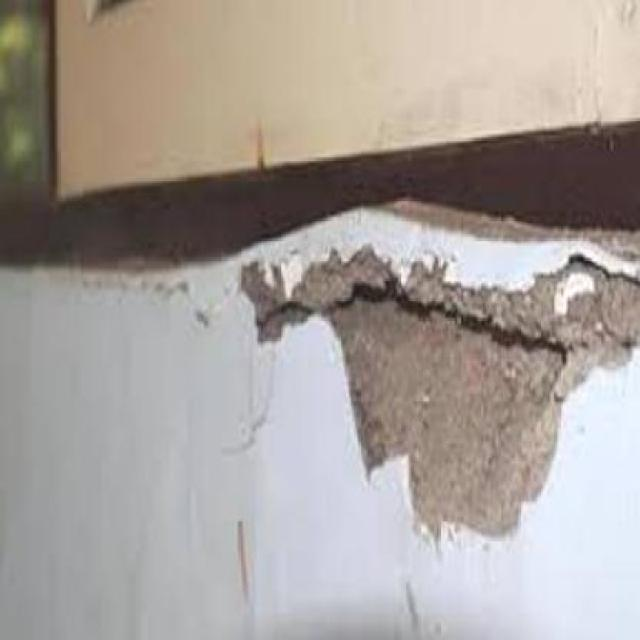Crack: (265, 268, 630, 360)
